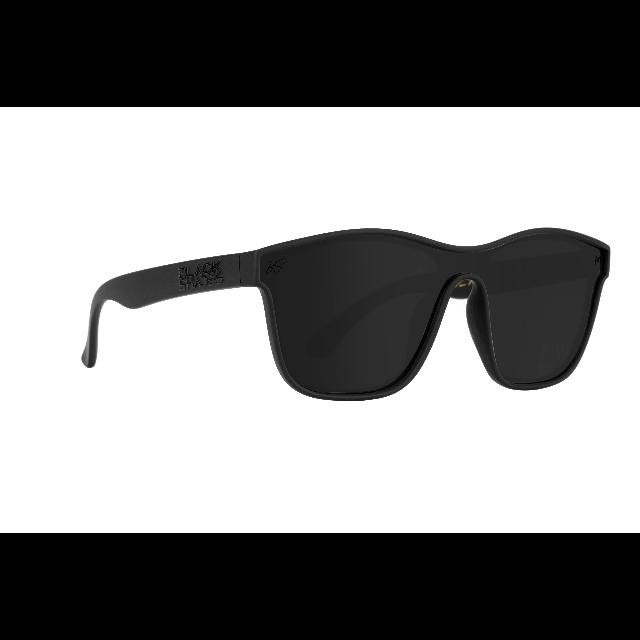Sunglasses: (69, 226, 621, 406)
